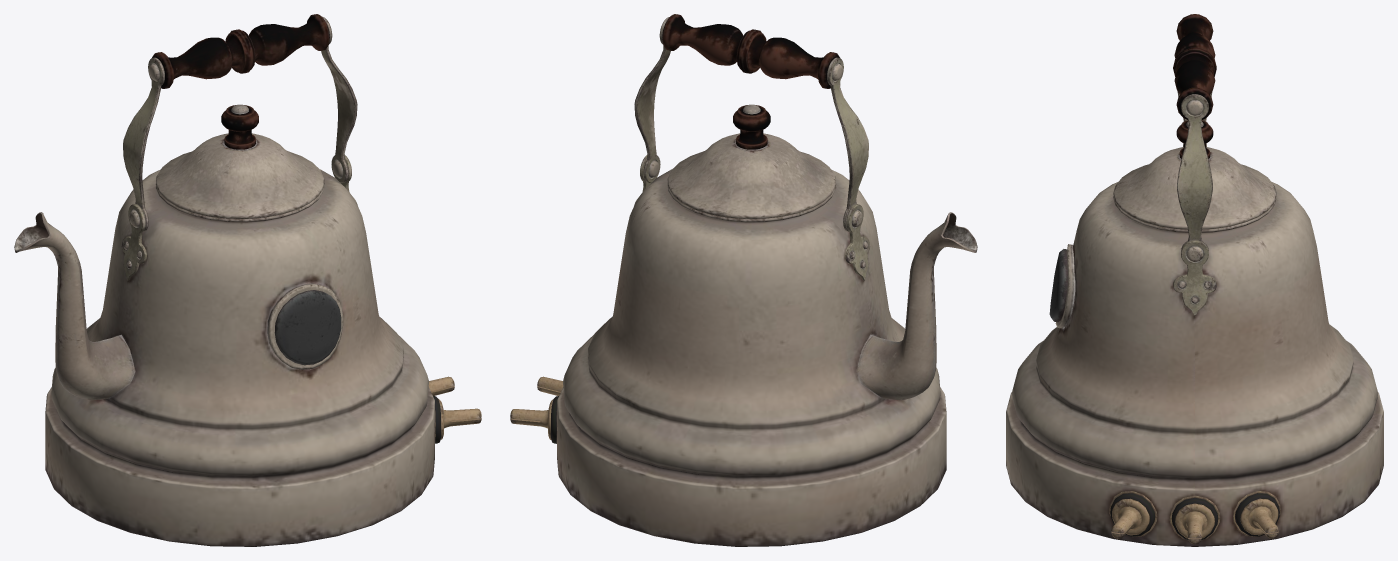
3 renders of one model, left to right at view 1: azimuth 30°, elevation 25°; view 2: azimuth 150°, elevation 25°; view 3: azimuth 270°, elevation 25°, orthographic. The views are drawn at different scales.
Visible parts, largest first — view 1: vintage_electric_kettle; view 2: vintage_electric_kettle; view 3: vintage_electric_kettle.
Part boxes in pixels (x1,y1,x2,y2): vintage_electric_kettle: (14, 14, 481, 546); vintage_electric_kettle: (510, 14, 977, 546); vintage_electric_kettle: (1006, 14, 1383, 546).
Bounding box in the file's own units: 0.3209 × 0.3047 × 0.2486.
Materials: 2 (2 with a texture image).
